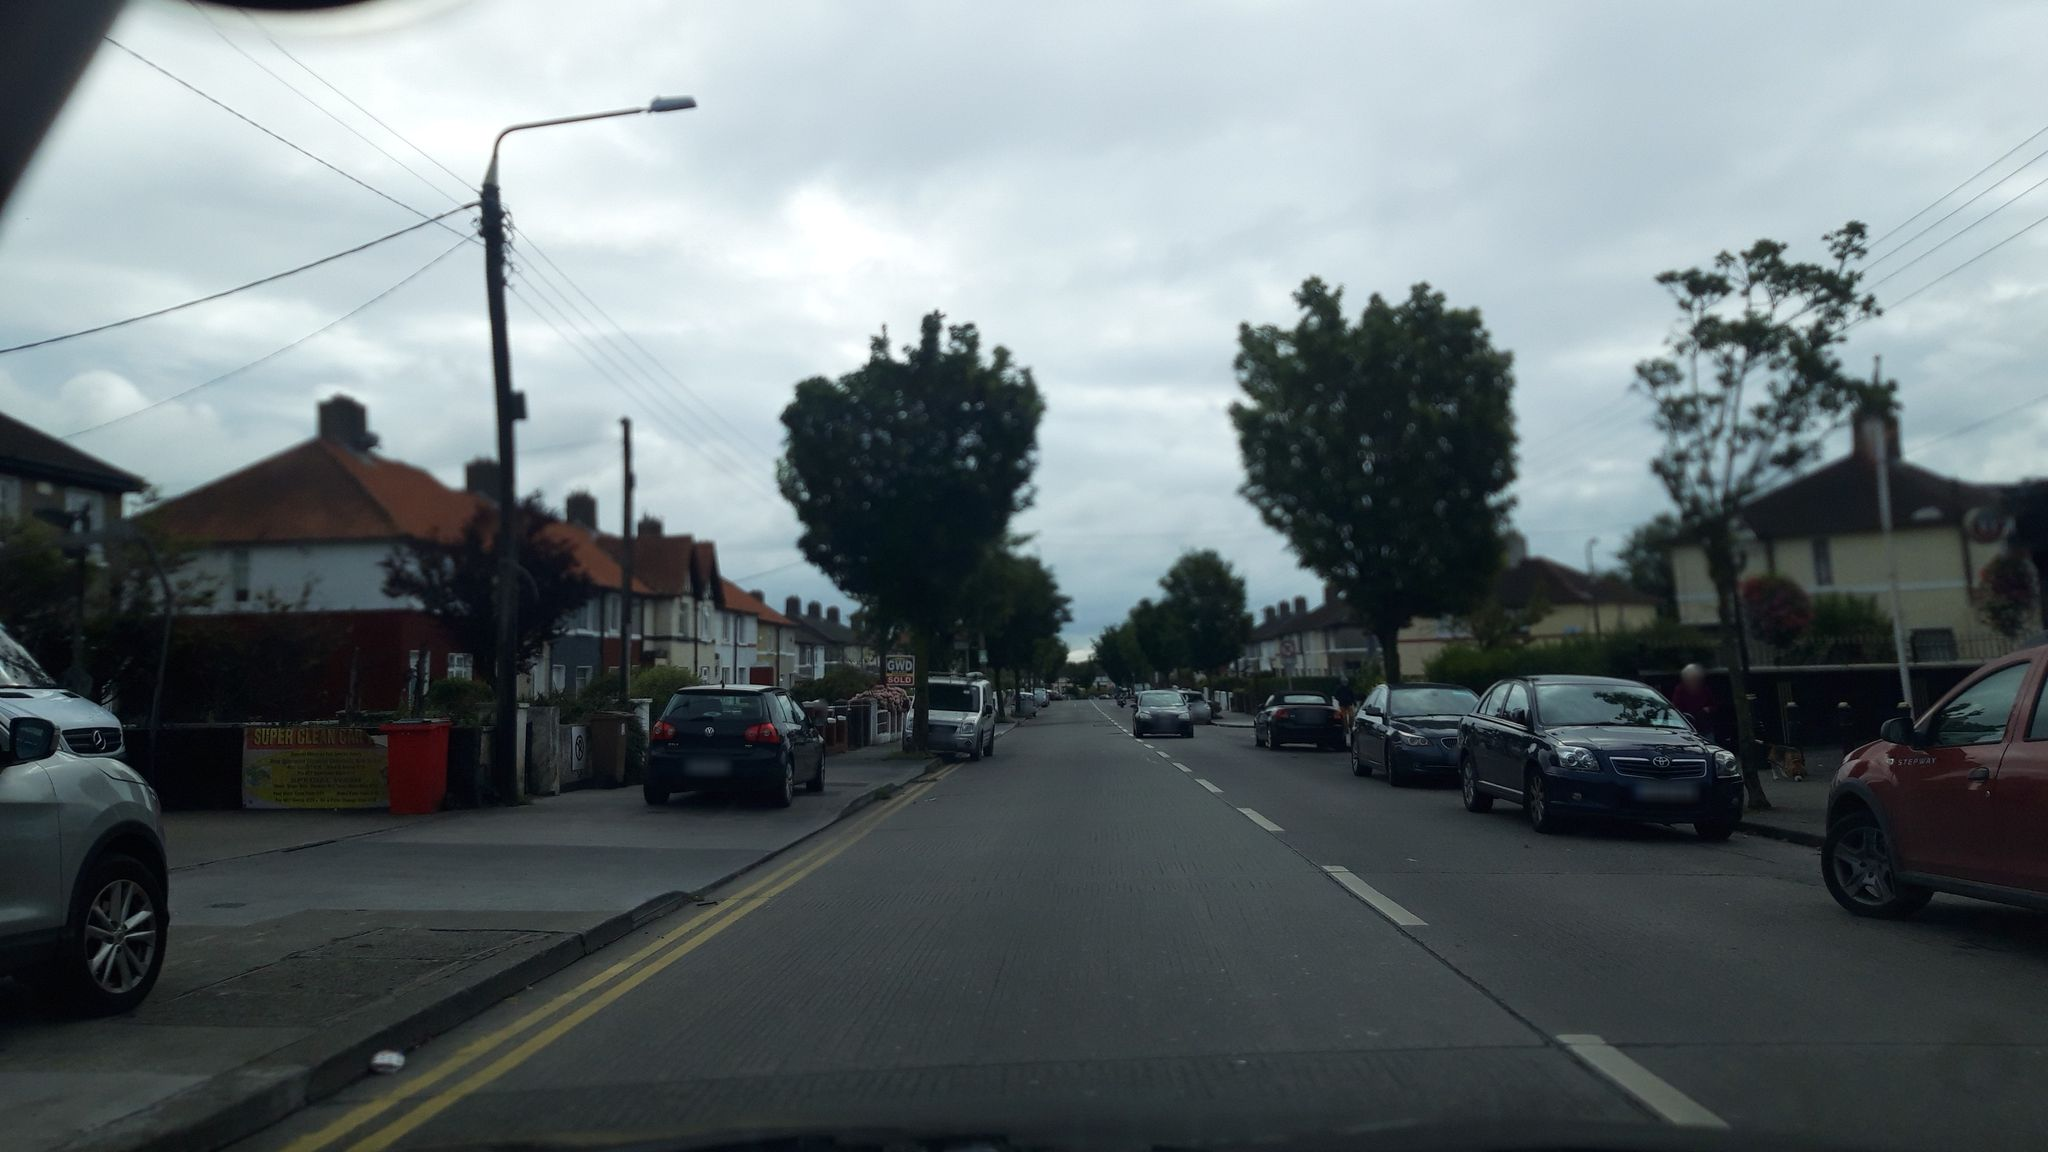property sign: (881, 641, 923, 698)
